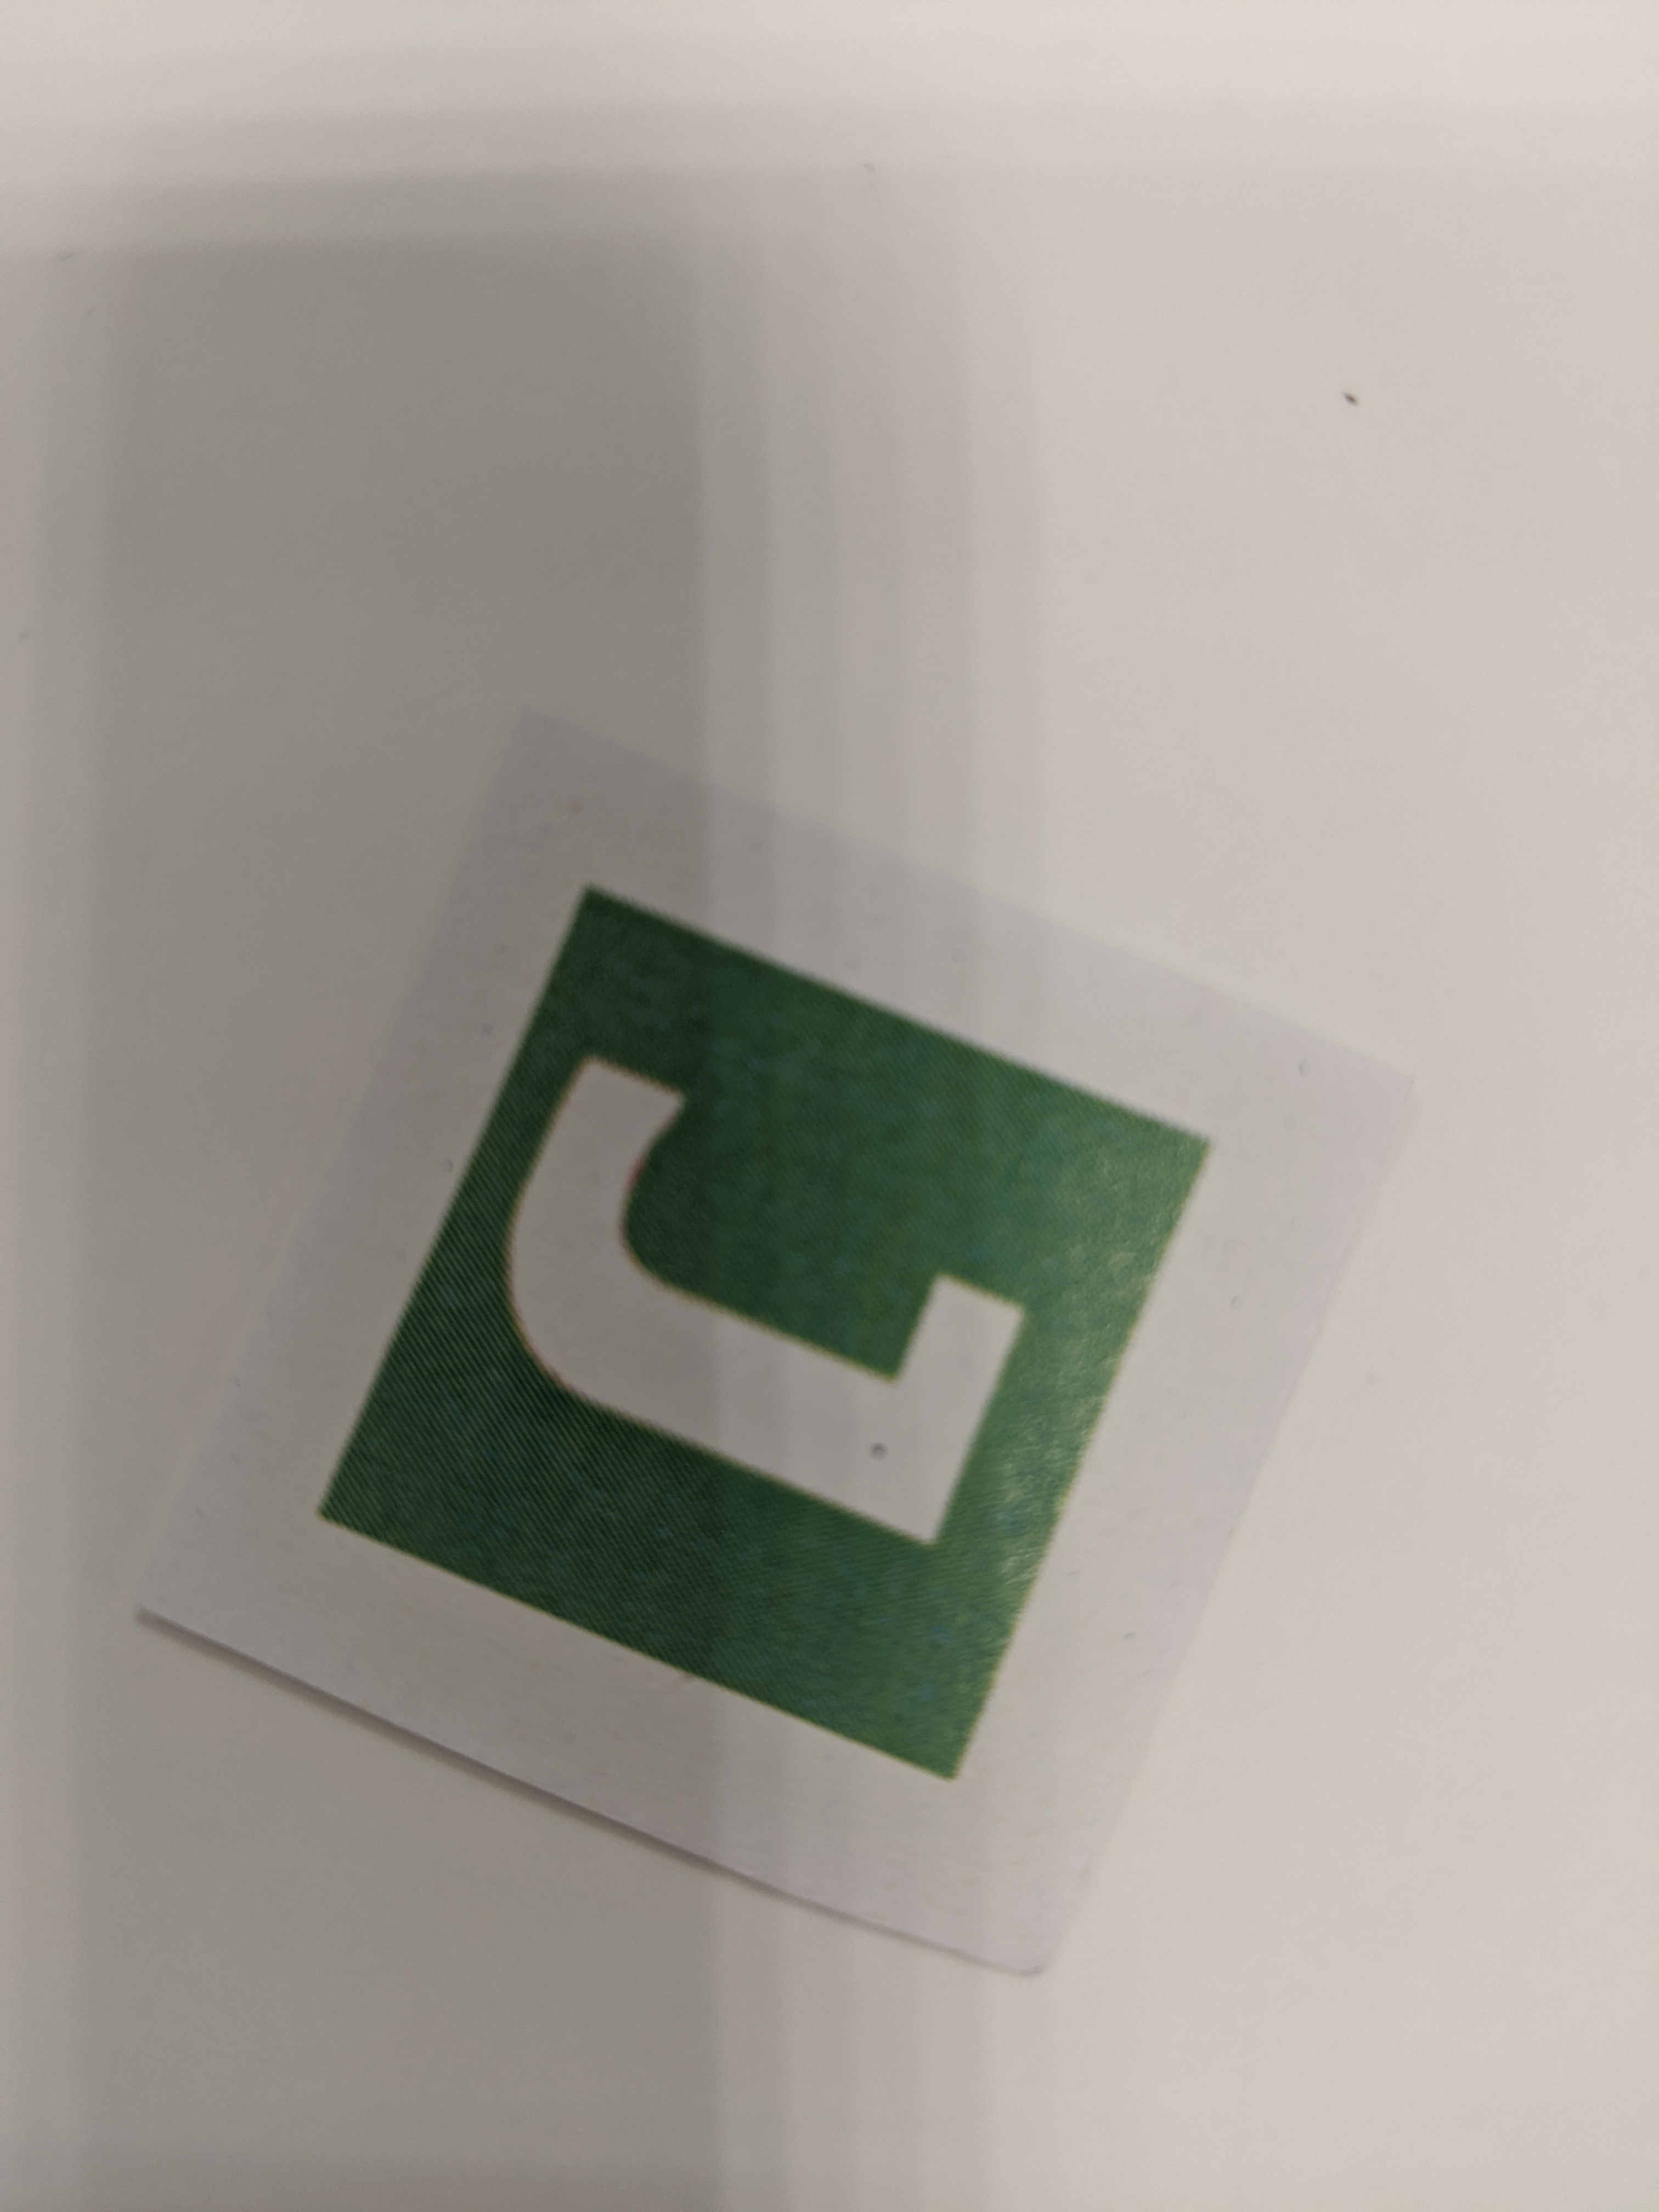marker: (143, 705, 1425, 2001)
